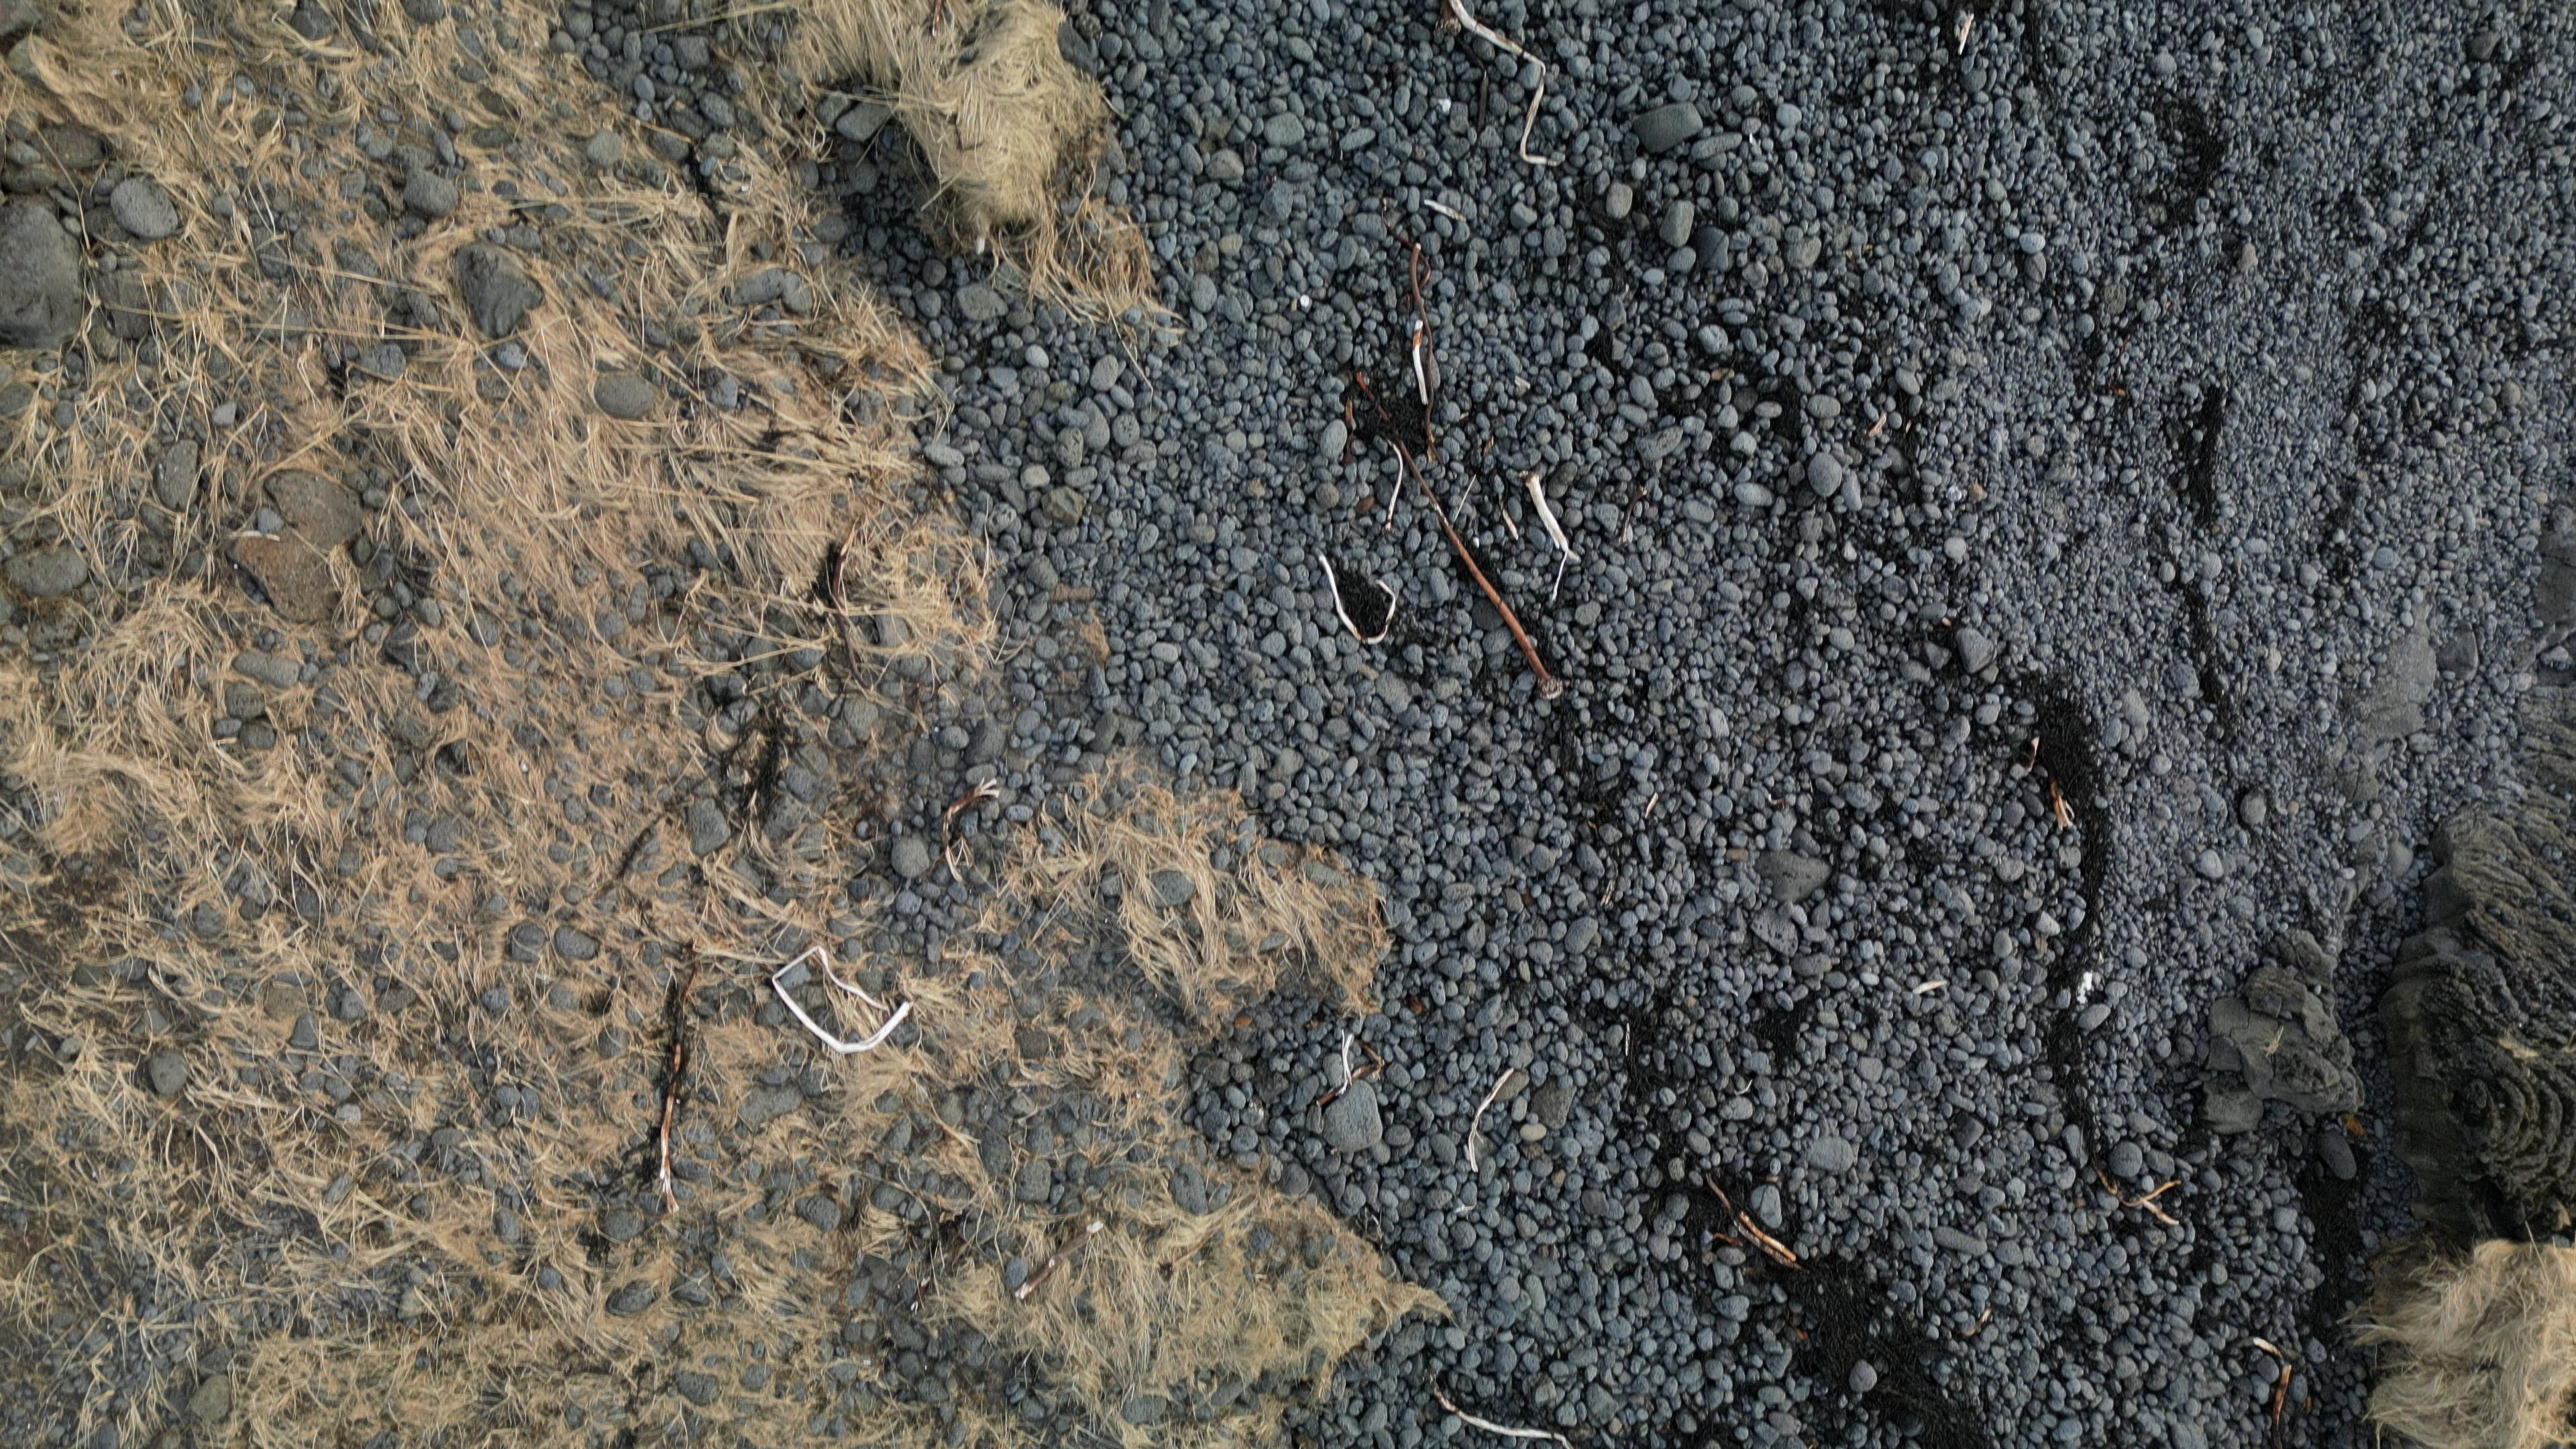trash: (775, 947, 911, 1056)
